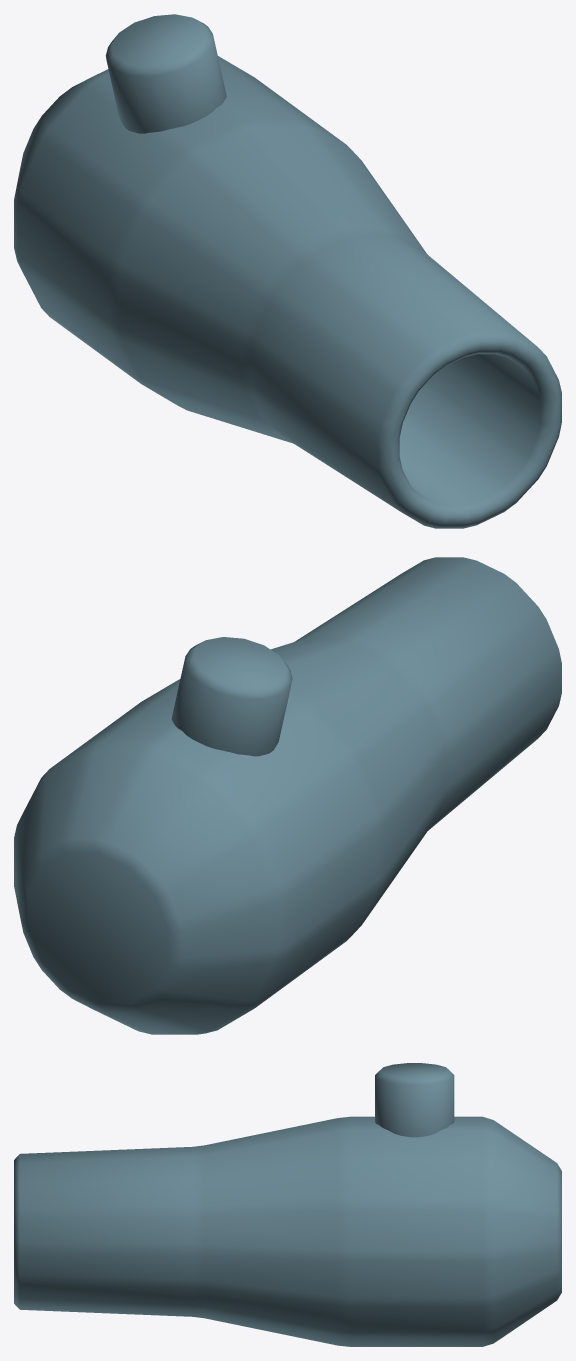
The model's file is weapon.002.glb.
3 views of the same model, one above another, from view 1: azimuth 30°, elevation 25°; view 2: azimuth 150°, elevation 25°; view 3: azimuth 270°, elevation 25° (orthographic). The views are drawn at different scales.
Parts seen in each view (by area): view 1: weapon.002; view 2: weapon.002; view 3: weapon.002.
Part boxes in pixels (left/top/right/bottom): weapon.002: left=14, top=14, right=561, bottom=528; weapon.002: left=14, top=557, right=561, bottom=1034; weapon.002: left=14, top=1063, right=561, bottom=1346.
Bounding box in the file's own units: 1.95 × 2.44 × 4.71.
